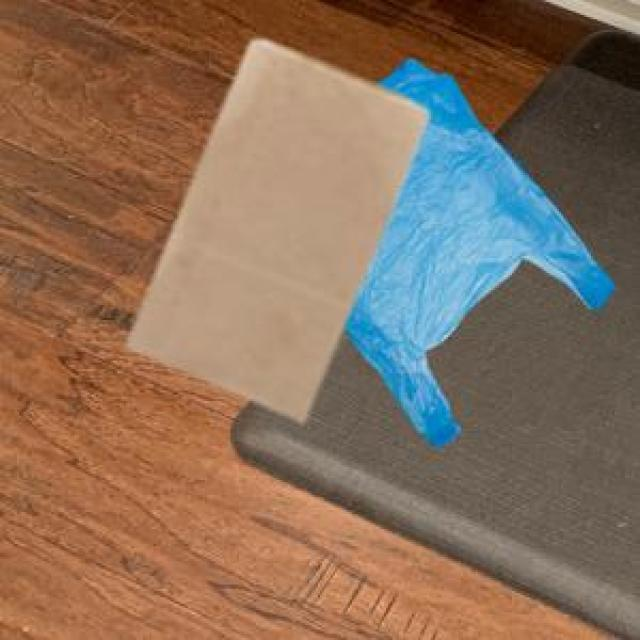paper: (124, 36, 425, 416)
